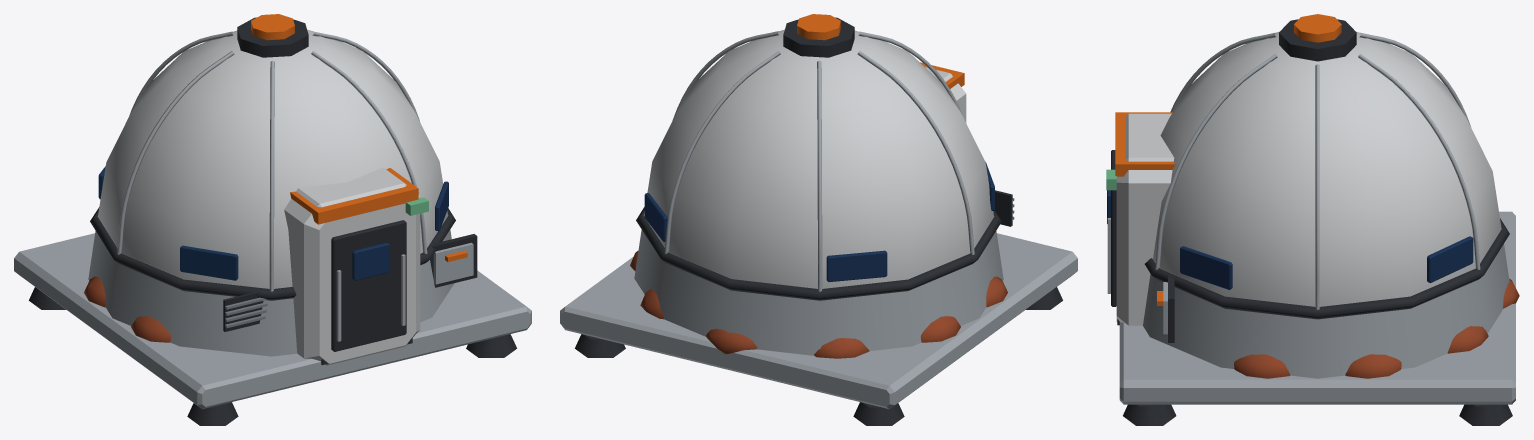
Rendered from habitat.glb.
3 views of the same model, side by side, from view 1: azimuth 30°, elevation 25°; view 2: azimuth 150°, elevation 25°; view 3: azimuth 270°, elevation 25° (orthographic). The views are drawn at different scales.
Visible parts, largest first — view 1: static_body_mesh, service_panel_mesh, regolith_shield_mesh; view 2: static_body_mesh, regolith_shield_mesh; view 3: static_body_mesh, regolith_shield_mesh, service_panel_mesh.
Boxes of the visible parts, box(x1,y1,x2,y2) form: static_body_mesh: box(14, 14, 531, 425); service_panel_mesh: box(430, 234, 477, 287); regolith_shield_mesh: box(84, 276, 171, 342); static_body_mesh: box(560, 14, 1077, 425); regolith_shield_mesh: box(630, 251, 1007, 358); static_body_mesh: box(1107, 14, 1515, 425); regolith_shield_mesh: box(1234, 278, 1519, 378); service_panel_mesh: box(1157, 275, 1174, 342).
Bounding box in the file's own units: 2.7 × 2.32 × 2.73.
